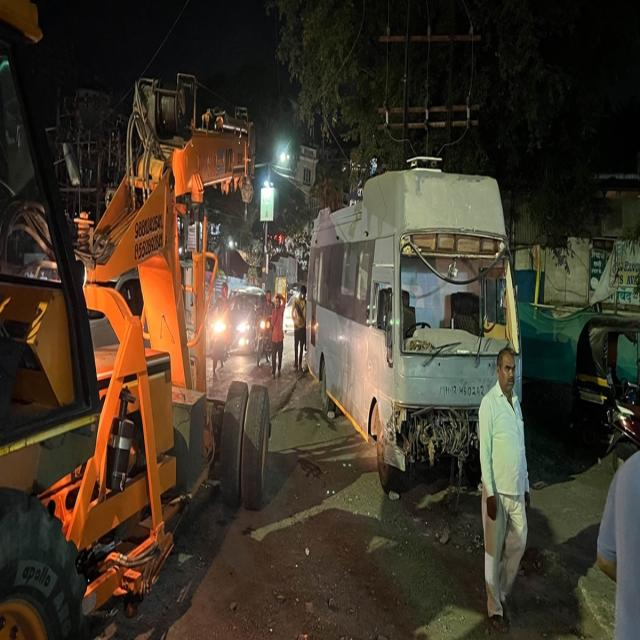accident: (306, 157, 521, 491)
autorickshaw: (571, 311, 640, 444)
truck: (0, 0, 270, 639)
